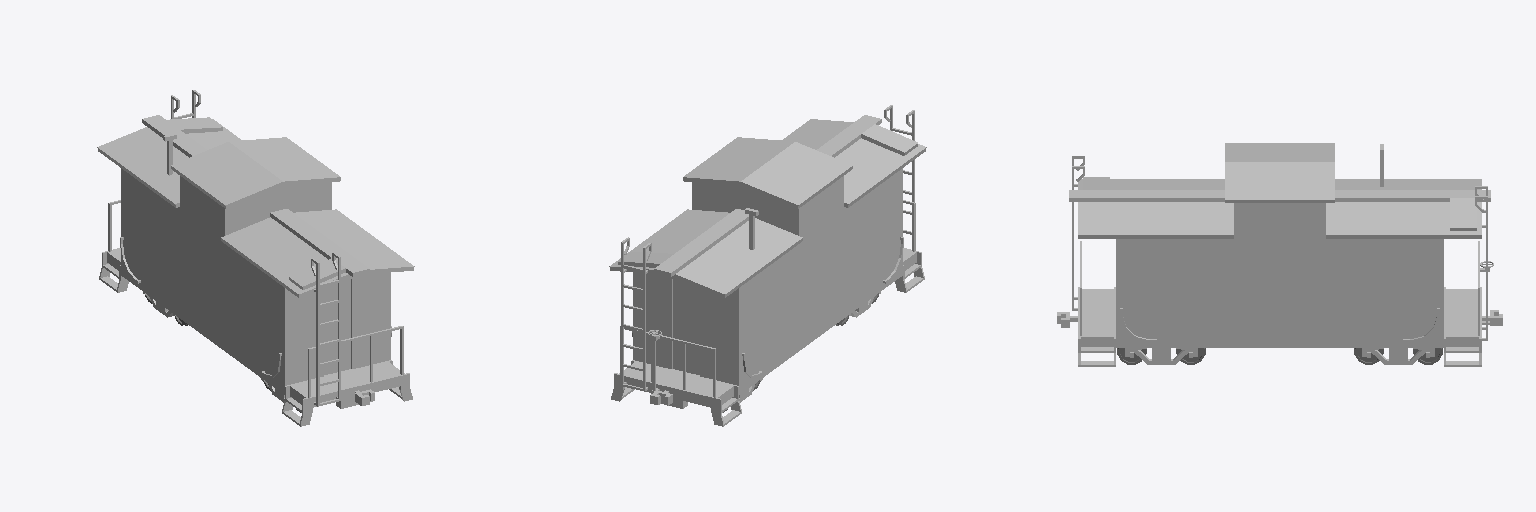
The model's file is dlxtrains_support_wagons_caboose_type1.obj.
3 renders of one model, left to right at view 1: azimuth 30°, elevation 25°; view 2: azimuth 150°, elevation 25°; view 3: azimuth 270°, elevation 25°, orthographic.
Parts seen in each view (by area): view 1: caboose_bed; view 2: caboose_bed; view 3: caboose_bed.
Part boxes in pixels (x1,y1,x2,y2): caboose_bed: (97,90,414,426); caboose_bed: (609,105,926,426); caboose_bed: (1057,143,1502,366).
Size of the model in its own units: 18.32 by 28.55 by 61.25.